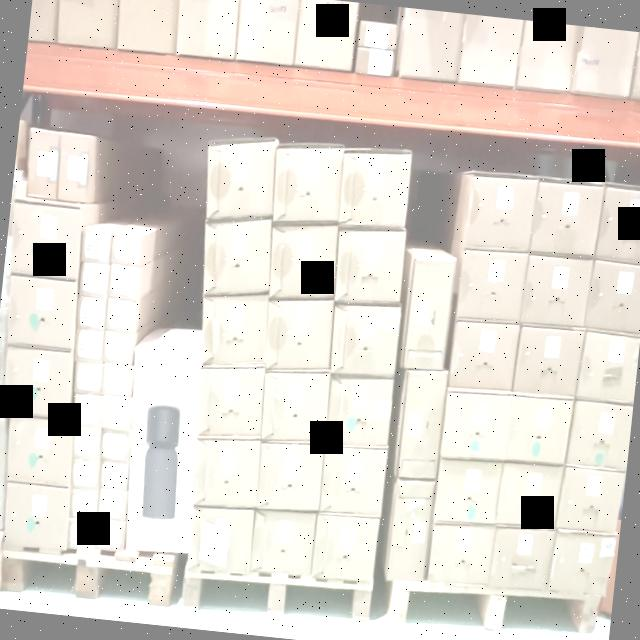box: (125, 349, 201, 555), (8, 200, 84, 280), (404, 257, 454, 370), (206, 139, 276, 219), (468, 173, 536, 252), (336, 228, 404, 306), (274, 145, 342, 222), (339, 151, 411, 223), (458, 250, 528, 324), (522, 254, 592, 328), (332, 304, 400, 379), (204, 218, 271, 294), (397, 372, 445, 478), (442, 389, 511, 462), (269, 224, 338, 297), (532, 180, 600, 254), (326, 373, 392, 448), (248, 505, 316, 577), (1, 350, 74, 417), (7, 279, 76, 349), (506, 393, 572, 465), (8, 413, 73, 485), (263, 371, 330, 440), (201, 294, 268, 363), (266, 301, 333, 369), (197, 367, 264, 435), (321, 446, 386, 516), (450, 323, 517, 390), (188, 506, 254, 574), (427, 522, 494, 588), (312, 515, 378, 582), (256, 443, 324, 508), (388, 480, 432, 580), (194, 439, 258, 507), (4, 486, 72, 550), (516, 327, 580, 394), (570, 400, 632, 469), (434, 461, 500, 524), (491, 526, 553, 592), (580, 332, 638, 402), (498, 464, 560, 527), (588, 259, 640, 332), (552, 531, 610, 596), (560, 468, 620, 530), (600, 187, 640, 262), (24, 128, 62, 197), (56, 133, 92, 202), (103, 330, 135, 365), (100, 429, 131, 462), (105, 298, 135, 332), (80, 263, 110, 297), (97, 490, 127, 523), (101, 397, 131, 430), (109, 264, 138, 298), (103, 364, 134, 395), (74, 330, 104, 362), (112, 232, 142, 264), (74, 396, 103, 428), (76, 297, 105, 329), (75, 362, 103, 395), (82, 232, 111, 262), (69, 489, 98, 518), (96, 521, 124, 551), (71, 460, 100, 488), (99, 462, 129, 489), (74, 428, 101, 458), (68, 520, 94, 550)
